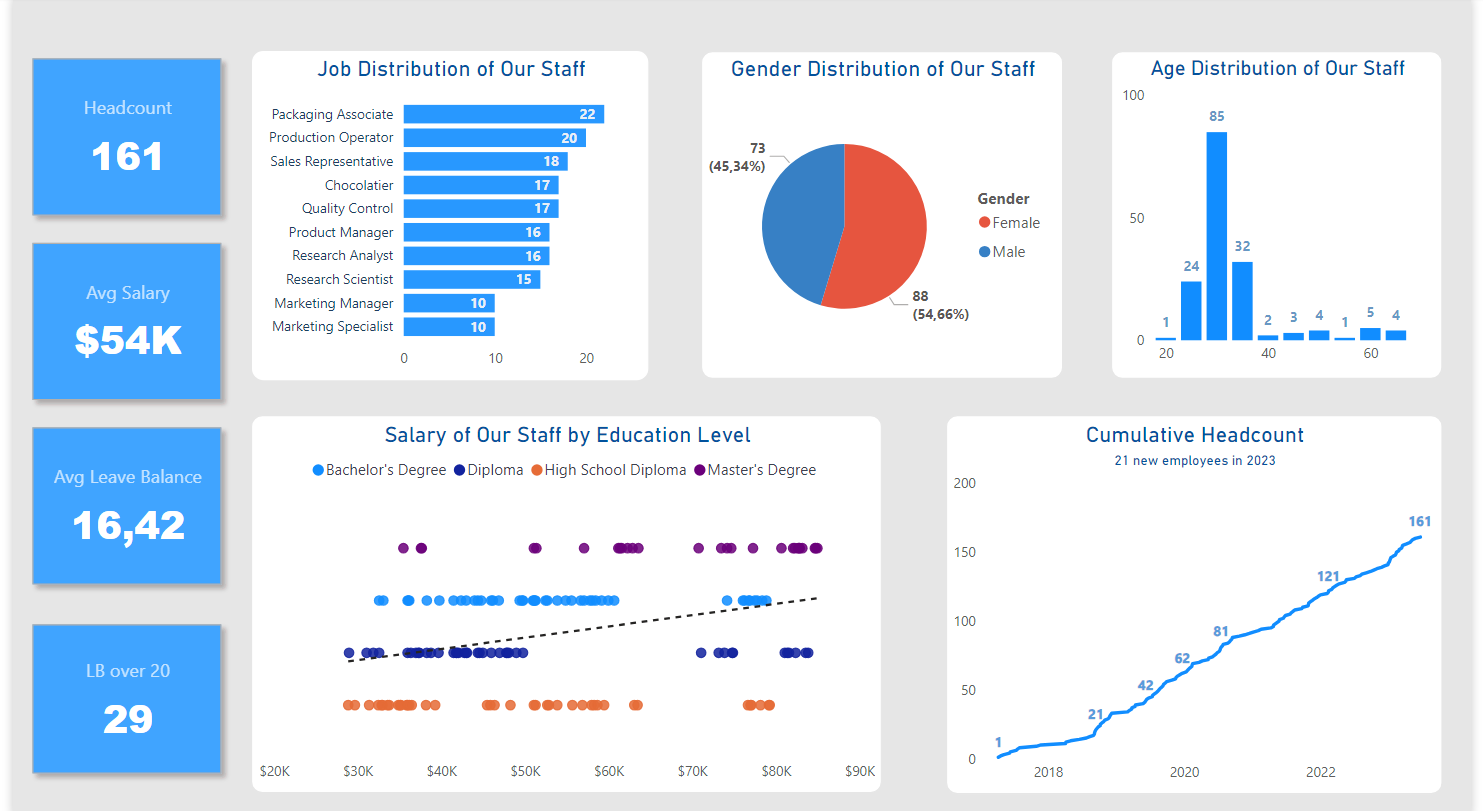

The page's visual inventory and layout, read from the dashboard file:
{"tool":"powerbi","page":{"name":"HR Dashboard","canvas":[1280,720],"ordinal":9},"visuals":[{"type":"cardVisual","fields":{"Data":["staff.Headcount","staff.Avg_salary","staff.Avg_leave_balance"]},"box":[0,36.9,200.2,496.1],"z":0},{"type":"clusteredBarChart","title":"Job Distribution of Our Staff","fields":{"Category":["staff.Job Title"],"Y":["staff.Headcount"]},"box":[210.1,47.7,348.2,288.9],"z":1000},{"type":"cardVisual","fields":{"Data":["staff.LBL_over_20"]},"box":[0,533.9,200.2,165.1],"z":2000},{"type":"pieChart","title":"Gender Distribution of Our Staff","fields":{"Category":["staff.Gender"],"Y":["staff.Headcount"]},"box":[604.1,47.4,317.9,288],"z":3000},{"type":"columnChart","title":"Age Distribution of Our Staff","fields":{"Y":["staff.Headcount"],"Category":["staff.Age (bins)"]},"box":[964.1,47.4,290.6,288],"z":4000},{"type":"lineChart","title":"Cumulative Headcount ","fields":{"Y":["staff.Cumulative_headcount"],"Category":["staff.Date of Join"]},"box":[819.2,367,435.5,332.8],"z":5000},{"type":"scatterChart","title":"Salary of Our Staff by Education Level","fields":{"X":["staff.Salary"],"Y":["qual.Qualification_ID"],"Series":["qual.Qualification"]},"box":[209,367,554,332],"z":6000}]}

Visuals, with their boxes in screenshot pixels (x1, y1, x2, y2), scaled from the page's 1280x720 canvas onto the 1483x811 screenshot:
cardVisual - staff.Headcount x staff.Avg_salary: bbox=(0, 42, 232, 600)
"Job Distribution of Our Staff" clusteredBarChart: bbox=(243, 54, 647, 379)
cardVisual - staff.LBL_over_20: bbox=(0, 601, 232, 787)
"Gender Distribution of Our Staff" pieChart: bbox=(700, 53, 1068, 378)
"Age Distribution of Our Staff" columnChart: bbox=(1117, 53, 1454, 378)
"Cumulative Headcount " lineChart: bbox=(949, 413, 1454, 788)
"Salary of Our Staff by Education Level" scatterChart: bbox=(242, 413, 884, 787)
